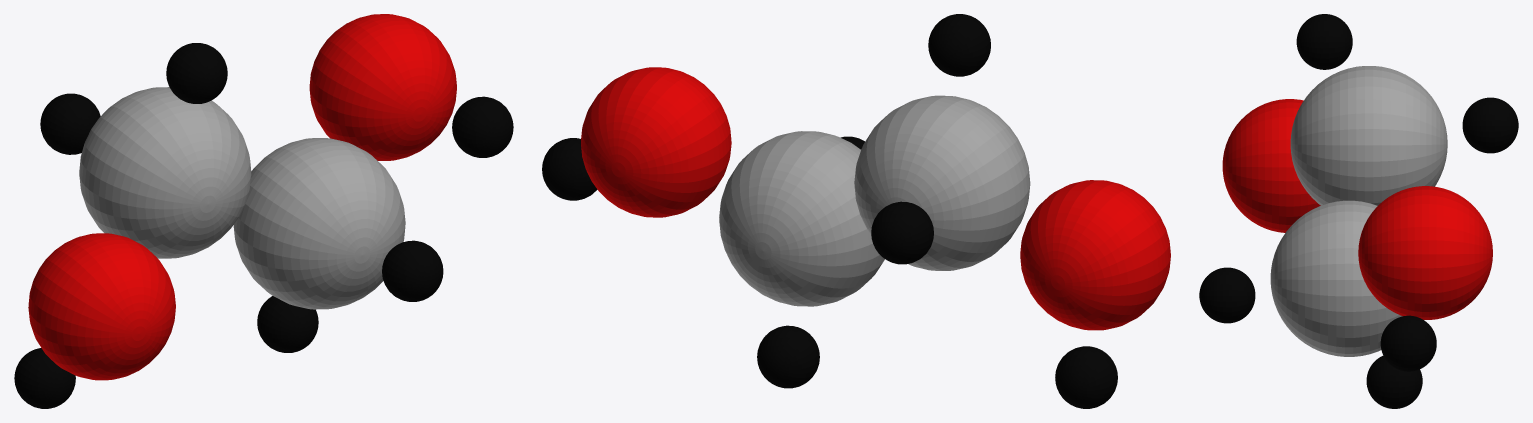
Rendered from Ethylene Glycol.glb.
3 views of the same model, side by side, from view 1: azimuth 30°, elevation 25°; view 2: azimuth 150°, elevation 25°; view 3: azimuth 270°, elevation 25° (orthographic). The views are drawn at different scales.
Parts seen in each view (by area): view 1: world; view 2: world; view 3: world.
Part boxes in pixels (x1,y1,x2,y2): world: (14,14,513,408); world: (542,14,1170,408); world: (1199,14,1518,408).
Bounding box in the file's own units: 5.03 × 3.26 × 2.84.
